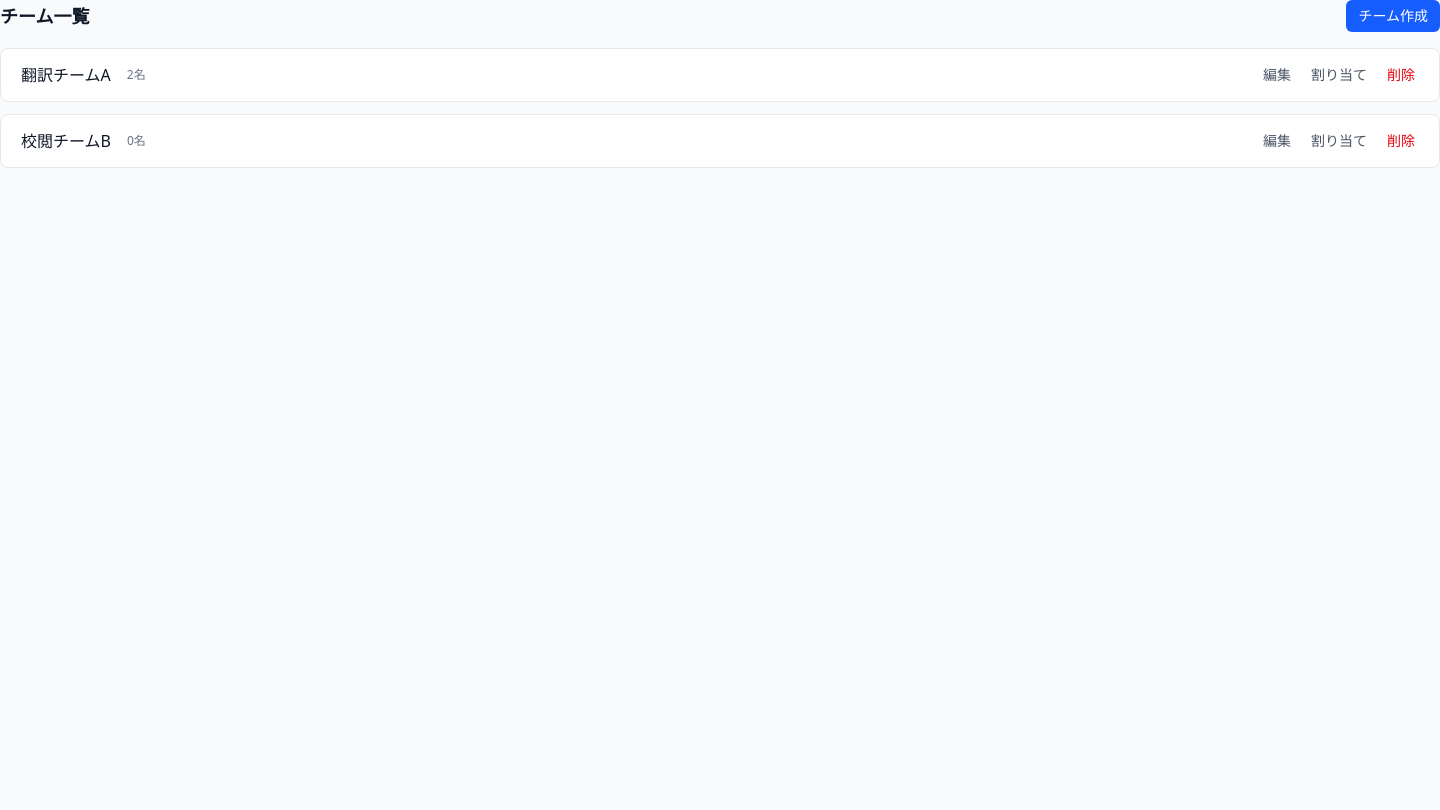
Scenario: TeamManagement › cancels delete confirmation dialog
Click the 1st button "削除": [1401, 75] box [1379,61,1423,89]
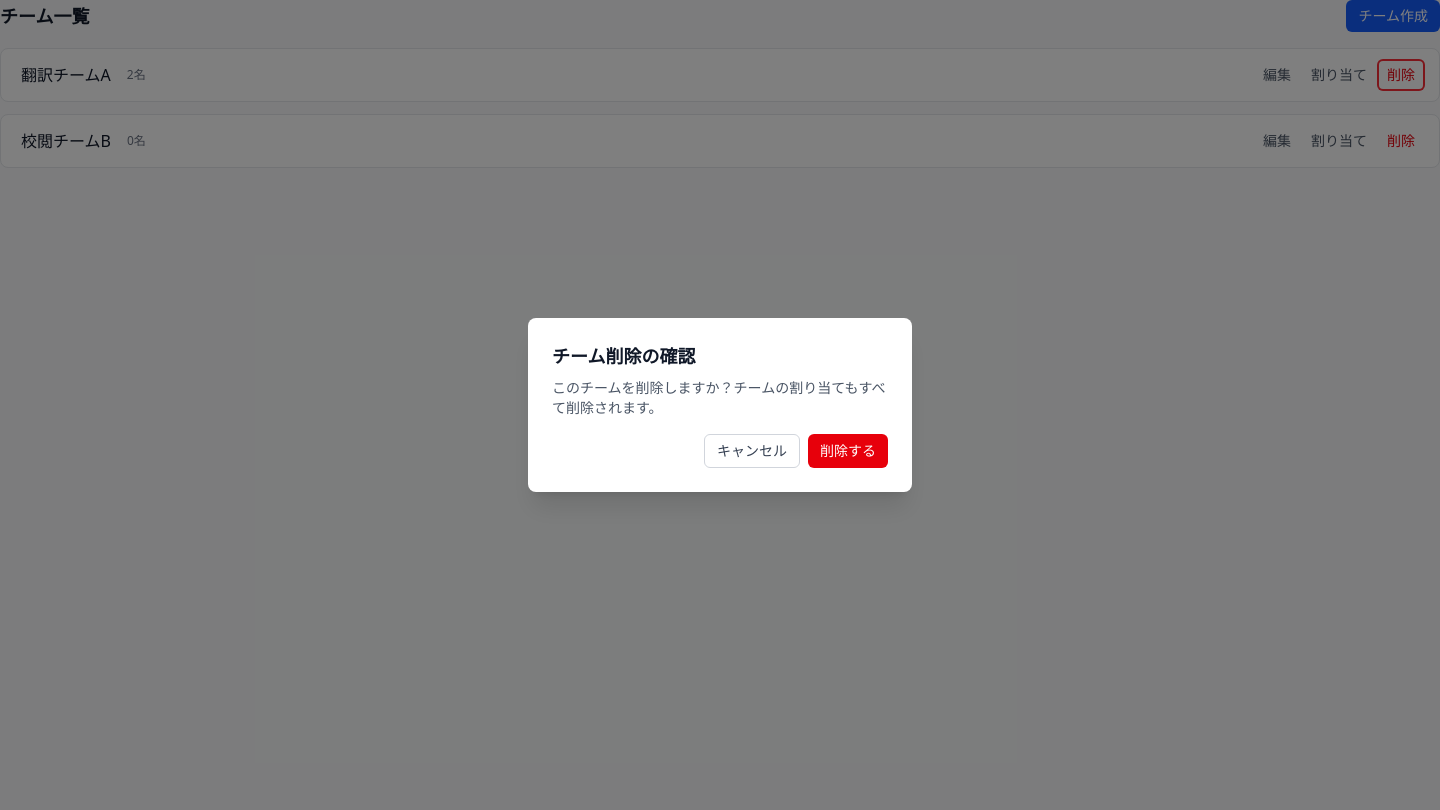
Check: the heading "チーム削除の確認" is shown, box [552,344,696,368]
Click the button "キャンセル": [752, 451] box [704,434,800,468]
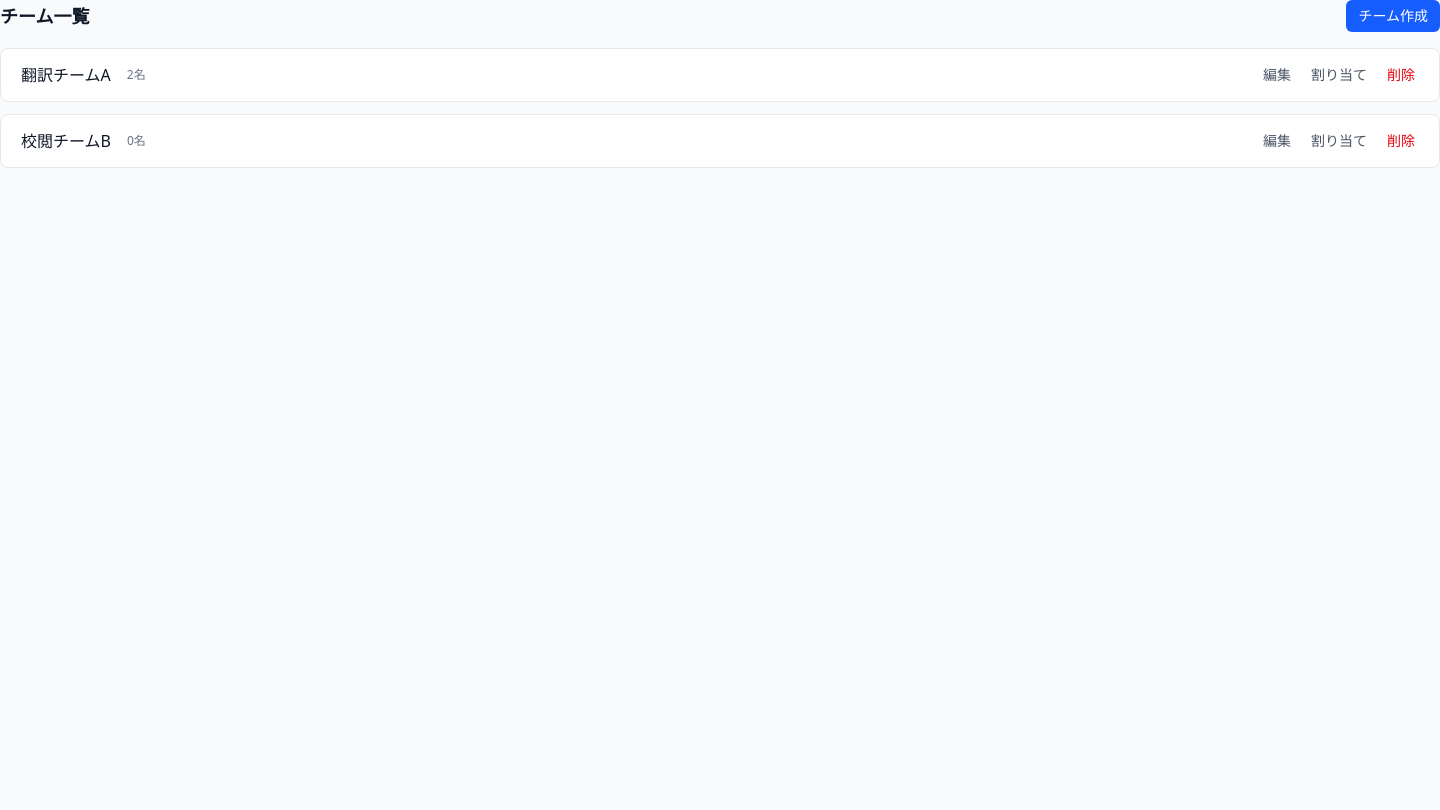
Check: the heading "チーム削除の確認" is gone
